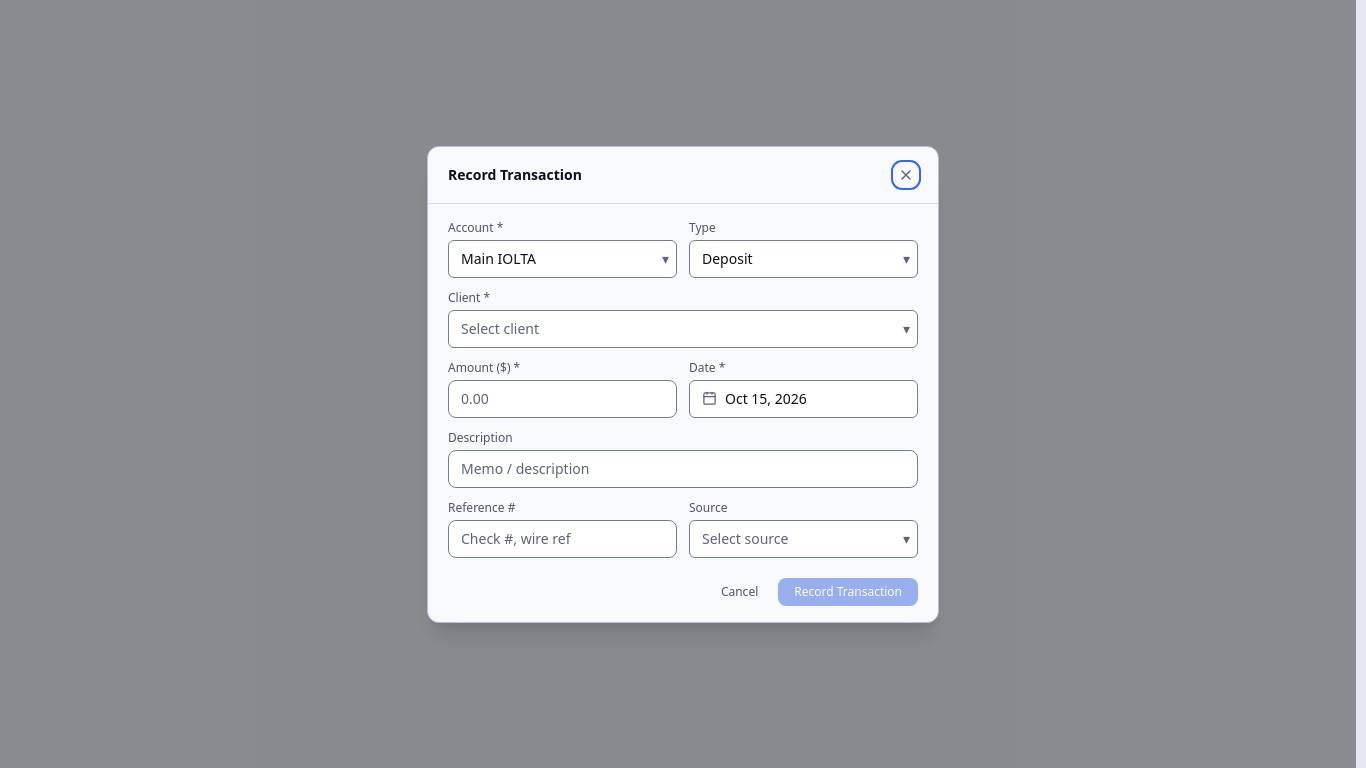
Scenario: the amount field refuses what is not money › declares the constraints that stop a bad value at the browser
The image size is (1366, 768).
Step 1. Click the text "Select client" → x=500, y=328, box [461,318,539,338]
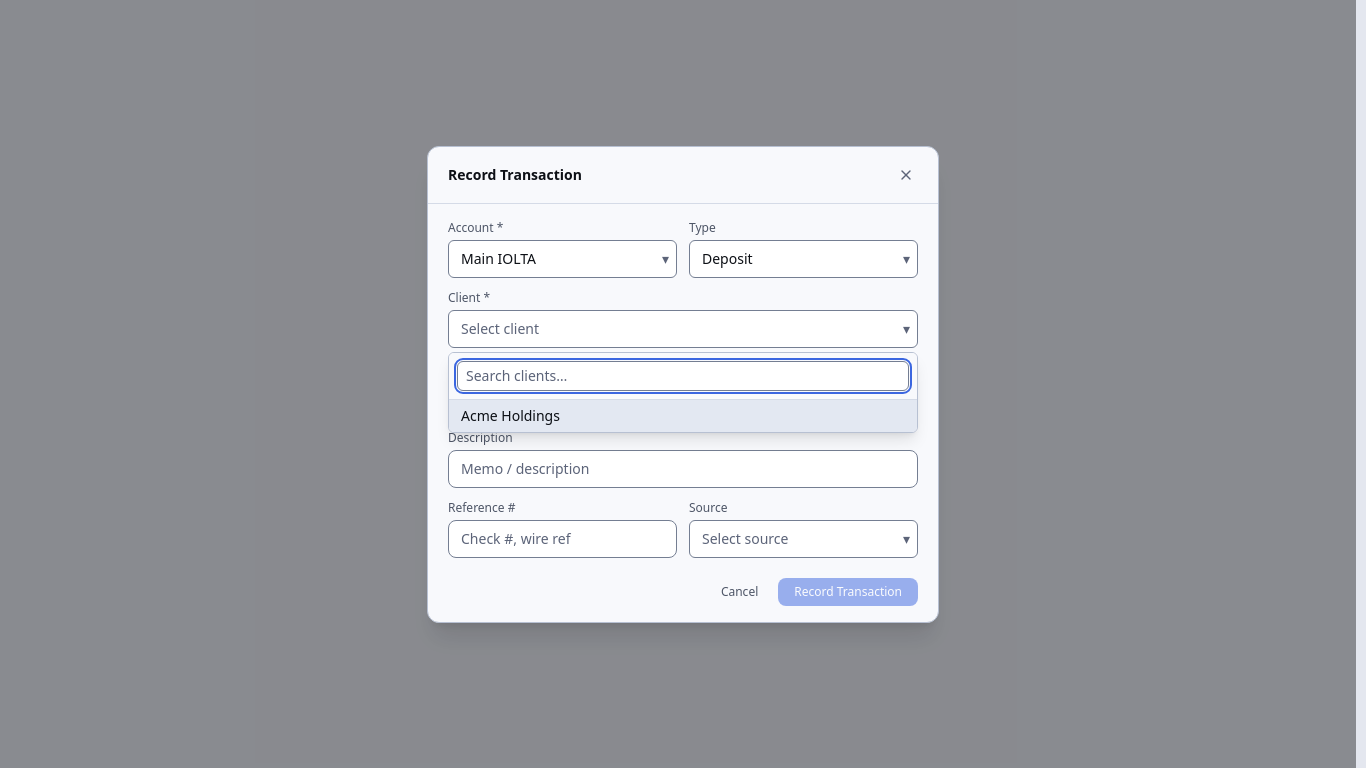
Step 2. Click the option "Acme Holdings" → x=510, y=415, box [449,400,917,432]
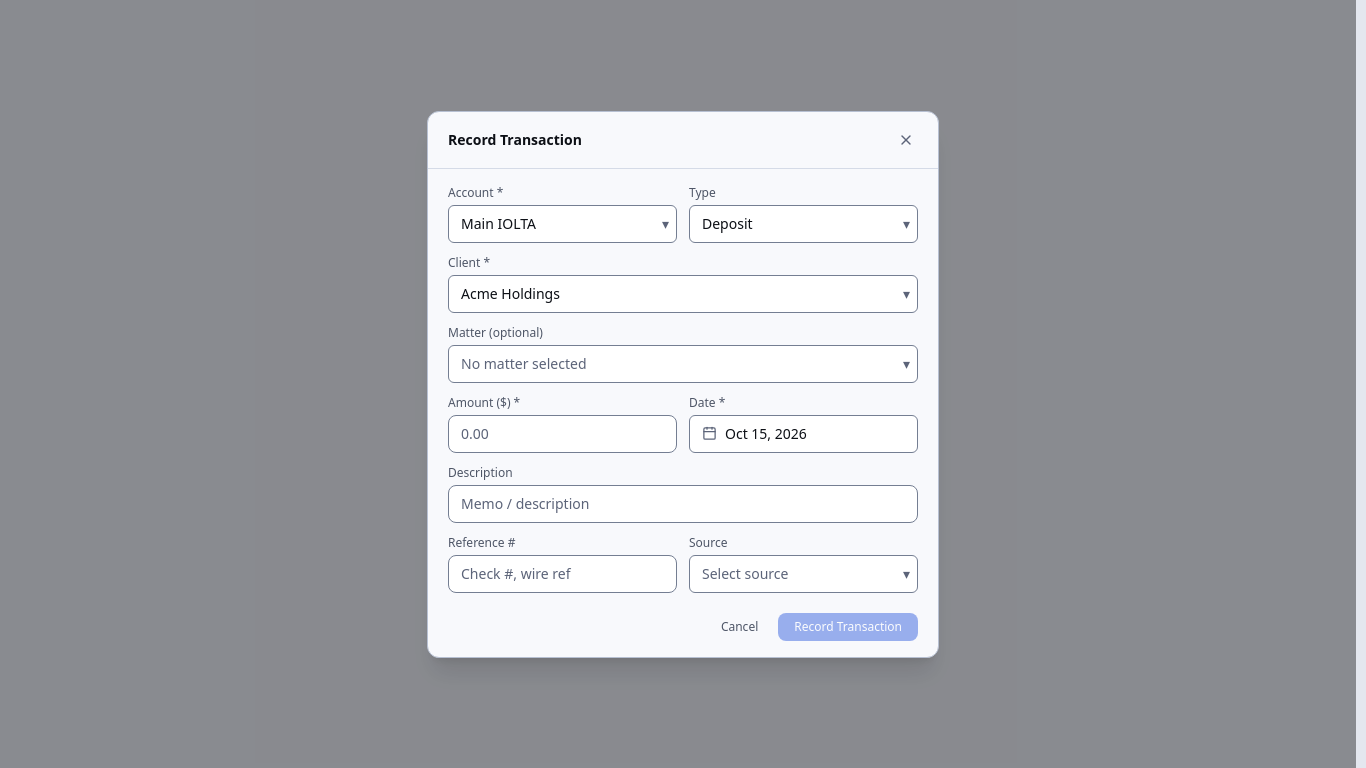
Check: the button "Select client" is gone
